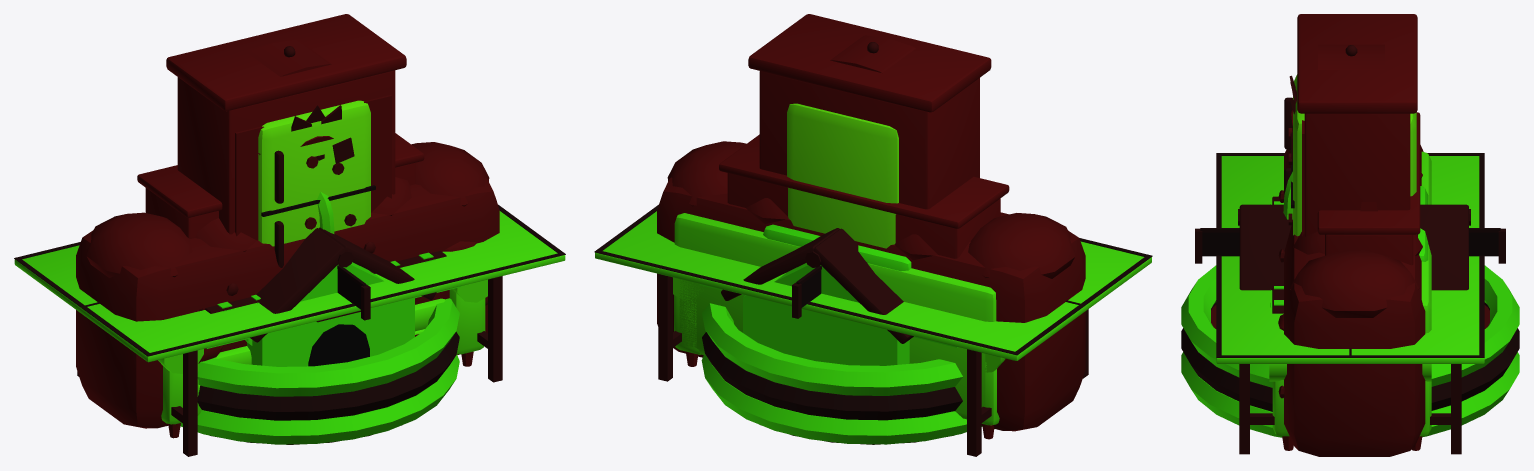
The picture shows the model from 3 angles, left to right: view 1: azimuth 30°, elevation 25°; view 2: azimuth 150°, elevation 25°; view 3: azimuth 270°, elevation 25°; orthographic projection.
Visible parts, largest first — view 1: hedge, wardrobe, pingpong_table, kiddie_pool, doghouse, fridge, sofa, piano, grandfather_clock, kitchen_table, sunflower; view 2: hedge, wardrobe, pingpong_table, kiddie_pool, sofa, doghouse, fridge, piano, grandfather_clock, armchair; view 3: hedge, pingpong_table, wardrobe, kiddie_pool, doghouse, piano, sofa, fridge, grandfather_clock, kitchen_table, armchair.
Boxes of the visible parts, left/top/right/bottom form: hedge: left=76, top=142, right=499, bottom=428; wardrobe: left=166, top=14, right=406, bottom=240; pingpong_table: left=14, top=204, right=565, bottom=456; kiddie_pool: left=180, top=298, right=459, bottom=444; doghouse: left=247, top=227, right=436, bottom=366; fridge: left=258, top=100, right=375, bottom=267; sofa: left=158, top=279, right=487, bottom=438; piano: left=137, top=133, right=424, bottom=238; grandfather_clock: left=247, top=39, right=331, bottom=76; kitchen_table: left=205, top=251, right=461, bottom=348; sunflower: left=258, top=105, right=341, bottom=154; hedge: left=657, top=141, right=1085, bottom=431; wardrobe: left=748, top=14, right=991, bottom=209; pingpong_table: left=594, top=204, right=1152, bottom=456; kiddie_pool: left=701, top=303, right=982, bottom=444; sofa: left=673, top=213, right=1005, bottom=439; doghouse: left=721, top=228, right=913, bottom=365; fridge: left=787, top=103, right=898, bottom=248; piano: left=719, top=134, right=1009, bottom=258; grandfather_clock: left=830, top=35, right=915, bottom=72; armchair: left=763, top=224, right=911, bottom=271; hedge: left=1278, top=145, right=1425, bottom=456; pingpong_table: left=1195, top=153, right=1505, bottom=454; wardrobe: left=1283, top=14, right=1417, bottom=236; kiddie_pool: left=1181, top=265, right=1519, bottom=437; doghouse: left=1238, top=204, right=1470, bottom=290; piano: left=1317, top=112, right=1420, bottom=265; sofa: left=1269, top=151, right=1431, bottom=450; fridge: left=1284, top=74, right=1416, bottom=236; grandfather_clock: left=1318, top=44, right=1384, bottom=69; kitchen_table: left=1270, top=196, right=1283, bottom=313; armchair: left=1418, top=186, right=1428, bottom=261.
Size of what is drawn, in the model's own units: 2.74 by 2.08 by 1.92.
